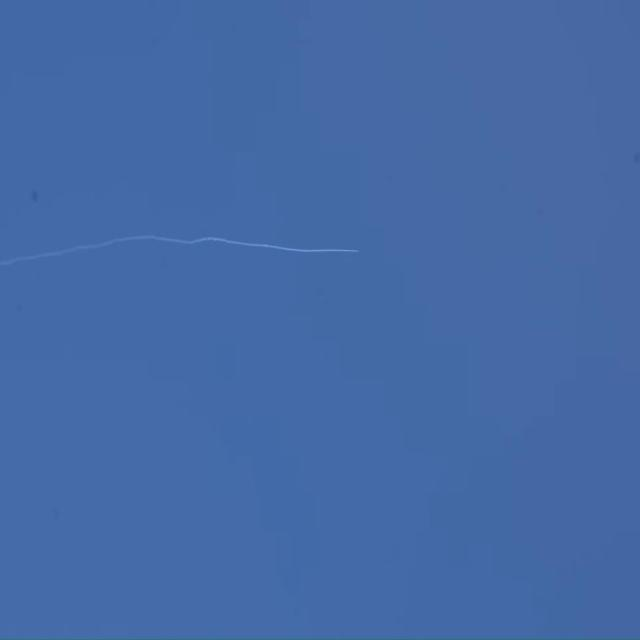Rocket: (356, 250, 358, 252)
